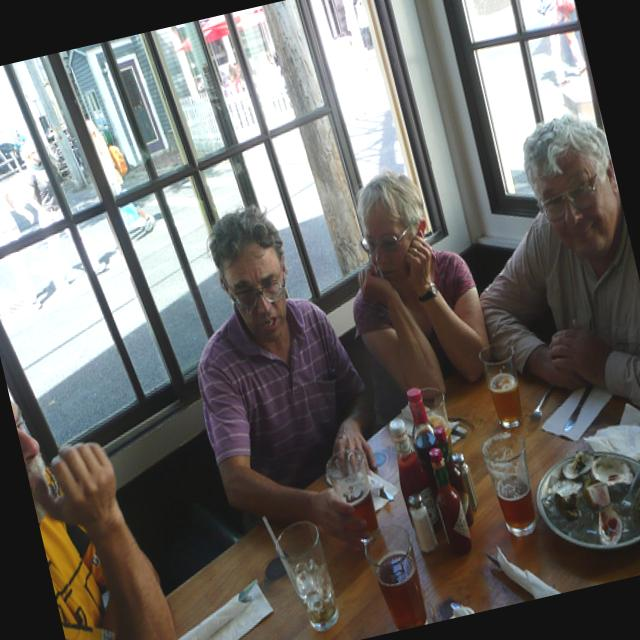Vehicle: (0, 138, 26, 186)
